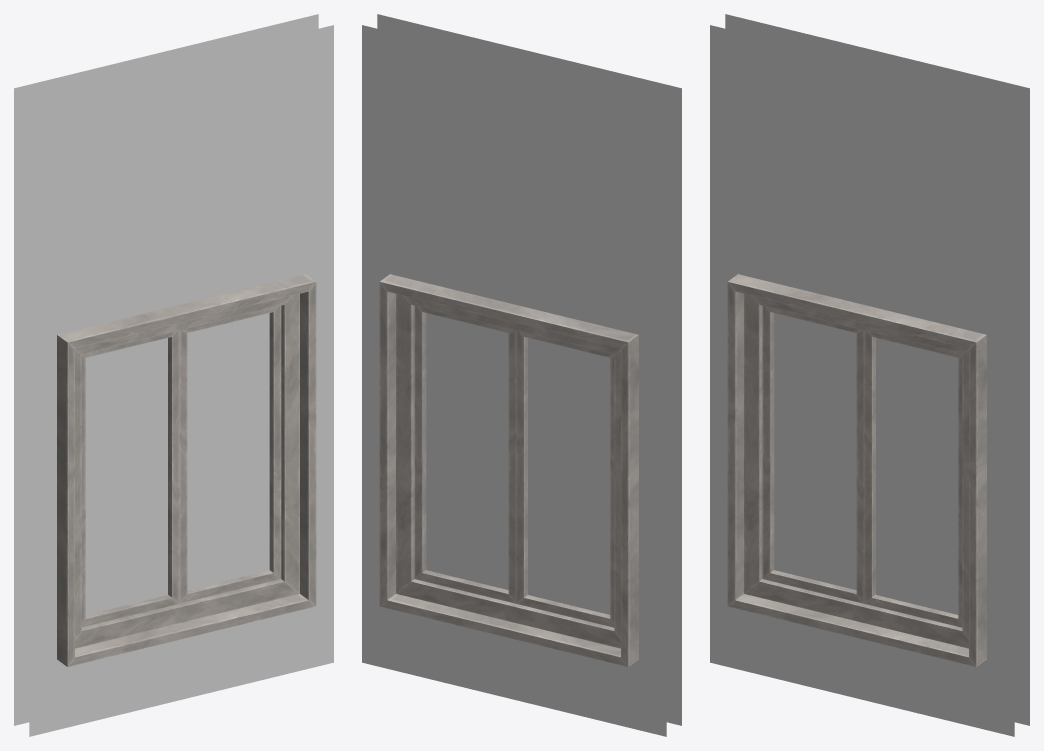
File: Wall_Window_Q.fbx
The picture shows the model from 3 angles, left to right: view 1: azimuth 30°, elevation 25°; view 2: azimuth 150°, elevation 25°; view 3: azimuth 330°, elevation 25°; orthographic projection.
Parts seen in each view (by area): view 1: Wall_Window_Q; view 2: Wall_Window_Q; view 3: Wall_Window_Q.
Boxes of the visible parts, bbox=[...] form: Wall_Window_Q: bbox=[14, 14, 333, 736]; Wall_Window_Q: bbox=[362, 14, 681, 736]; Wall_Window_Q: bbox=[710, 14, 1029, 736].
Size of the model in its own units: 3 by 0.6115 by 6.
